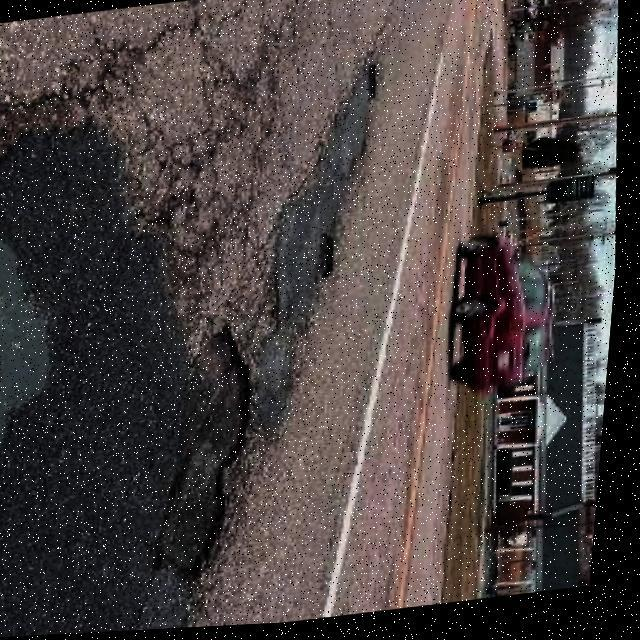pothole: (147, 322, 279, 586), (0, 222, 85, 471), (316, 230, 346, 282)
